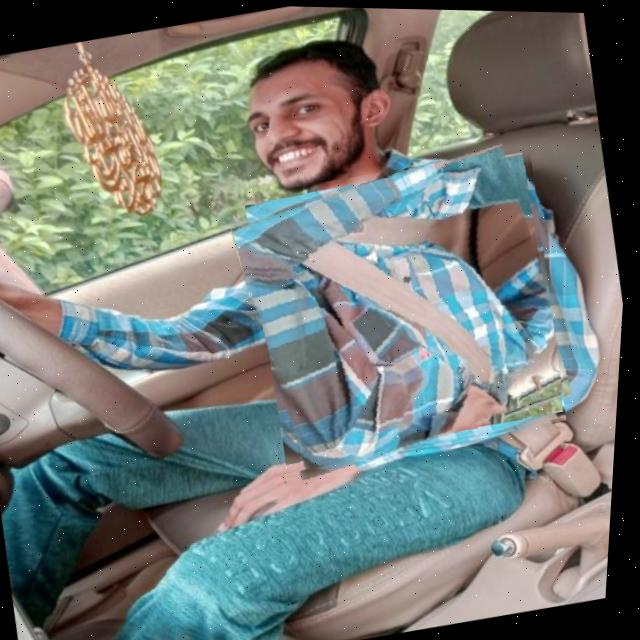seatbelt: (224, 140, 586, 480)
